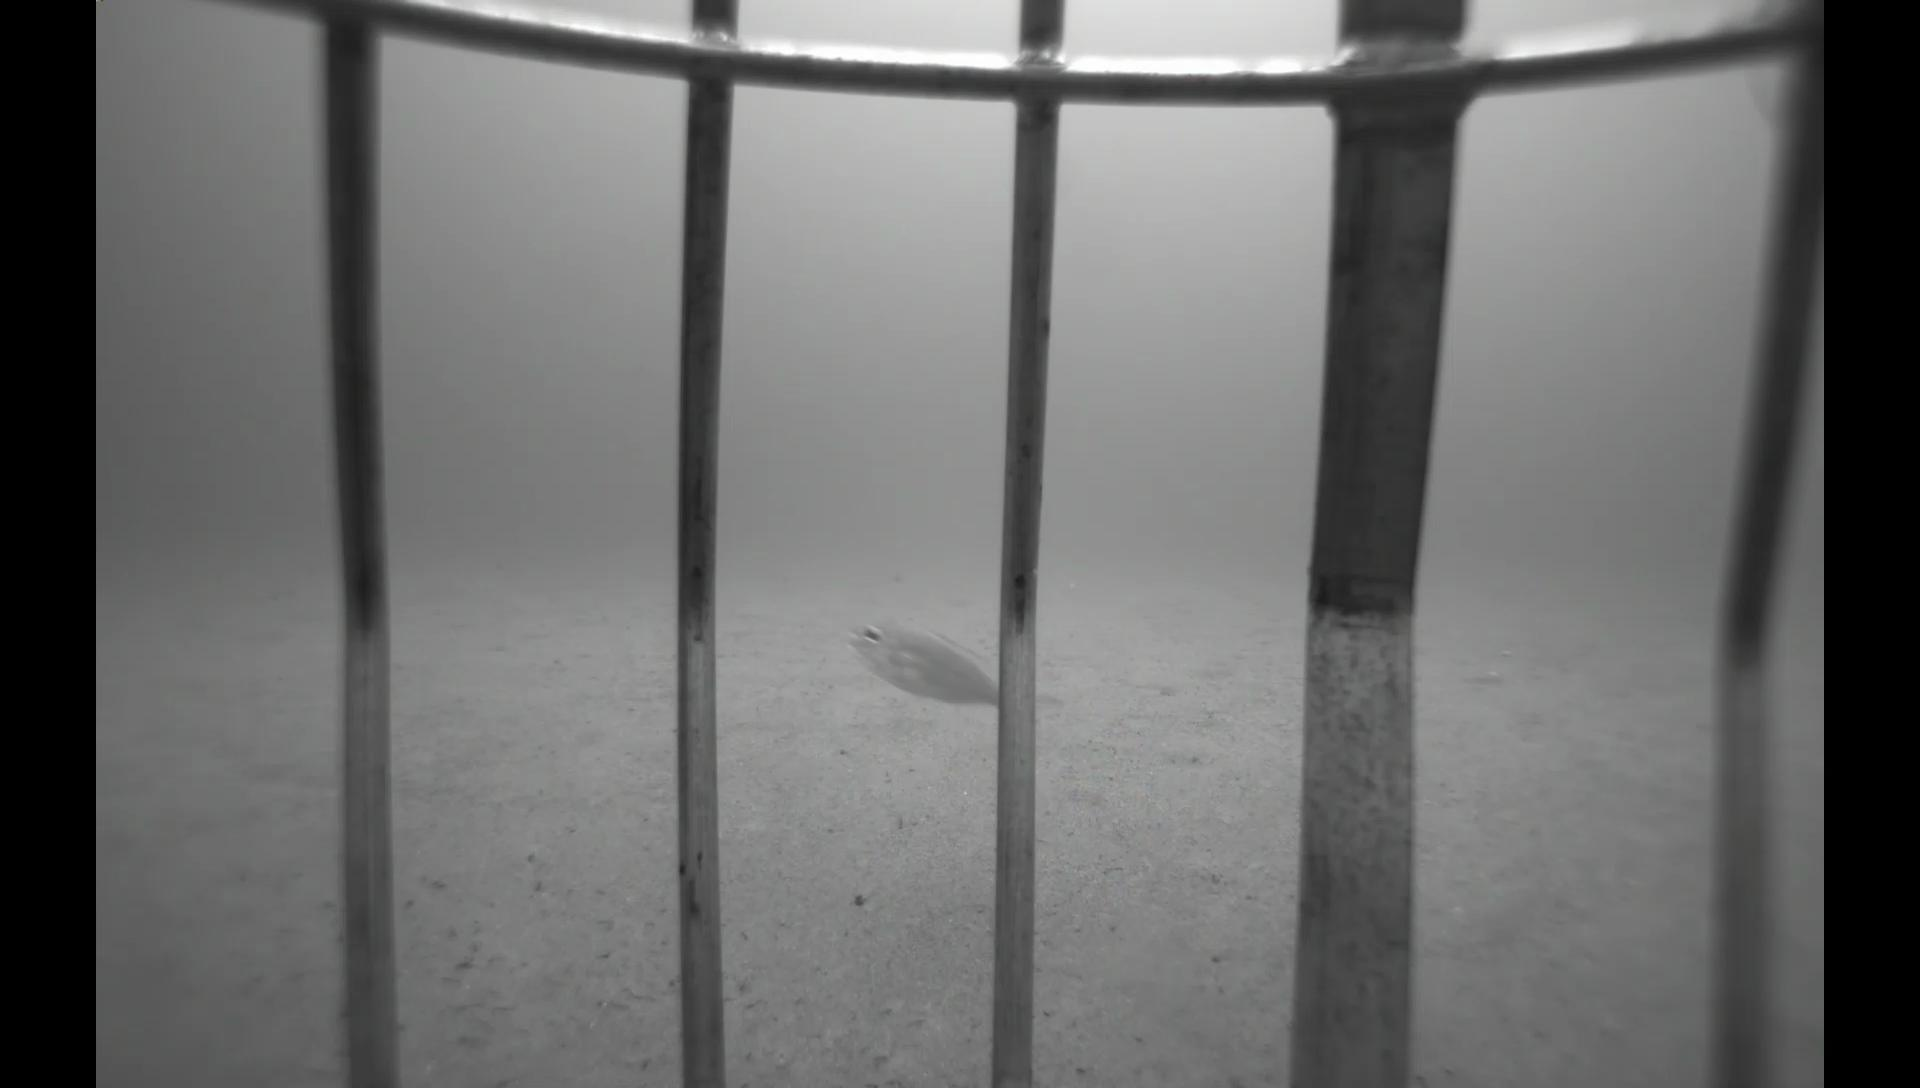PRISTIPOMOIDES-170151800: (825, 605, 1067, 756)
